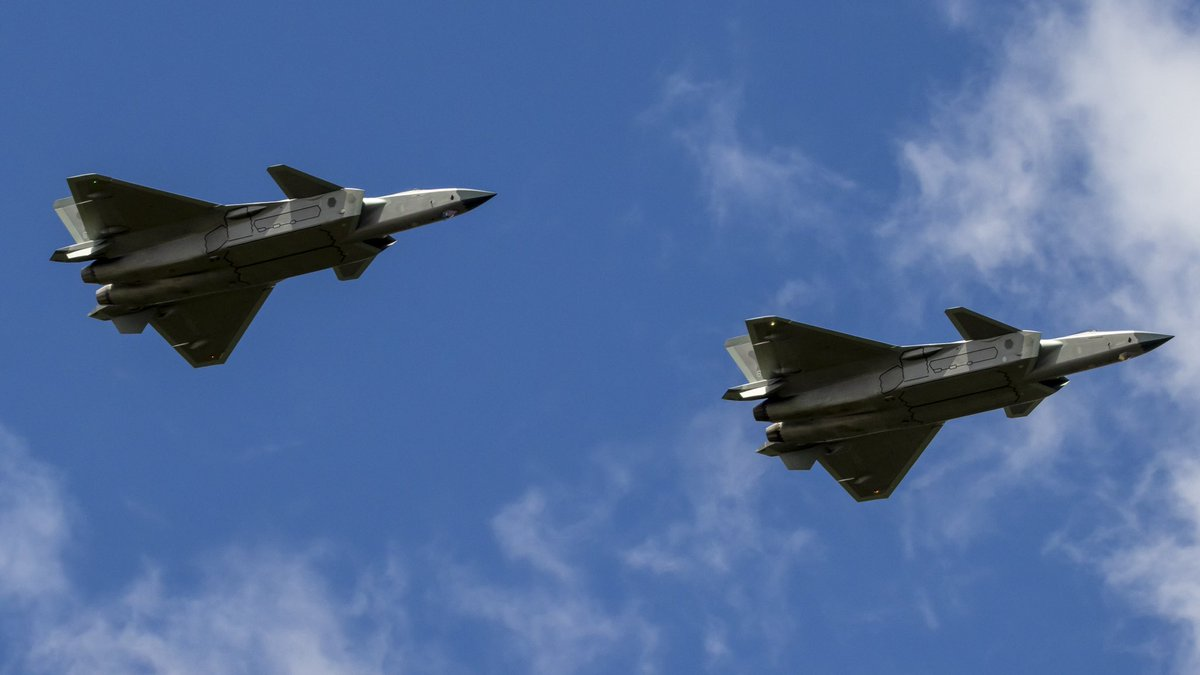J20: (48, 163, 499, 369), (720, 305, 1176, 504)
